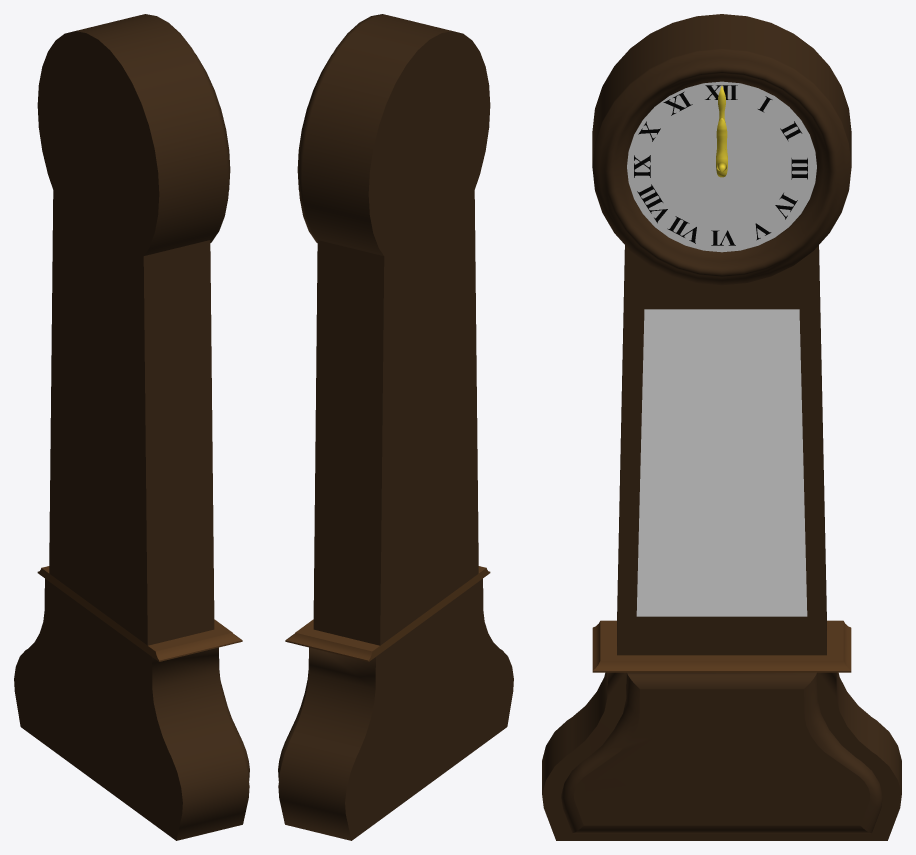
Rendered from GrandfatherClock.glb.
3 views of the same model, side by side, from view 1: azimuth 30°, elevation 25°; view 2: azimuth 150°, elevation 25°; view 3: azimuth 270°, elevation 25° (orthographic). The views are drawn at different scales.
Visible parts, largest first — view 1: grandfather_clock; view 2: grandfather_clock; view 3: grandfather_clock, glass, hour_marks.
Boxes of the visible parts, bbox=[...] form: grandfather_clock: bbox=[14, 14, 249, 840]; grandfather_clock: bbox=[278, 14, 513, 840]; grandfather_clock: bbox=[542, 14, 901, 840]; glass: bbox=[636, 309, 807, 616]; hour_marks: bbox=[634, 85, 807, 245].
Size of the model in its own units: 1.46 by 12.46 by 5.13.
